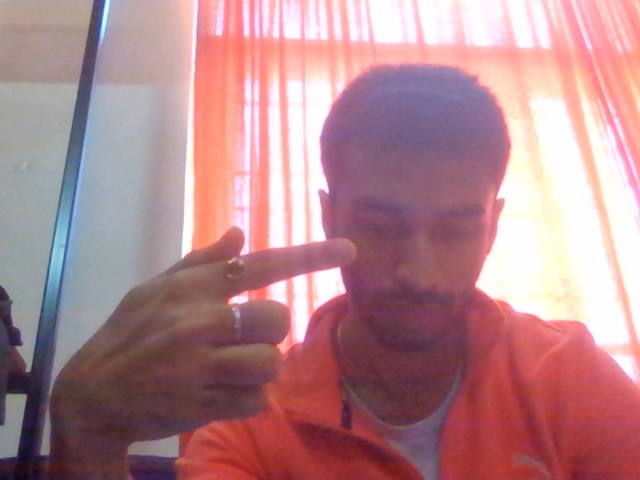G: (33, 218, 375, 480)
